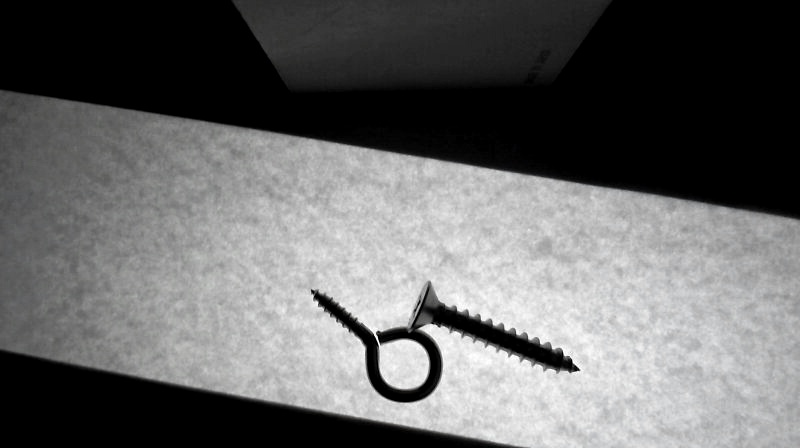O001: (308, 287, 440, 403)
S001: (400, 280, 586, 375)
